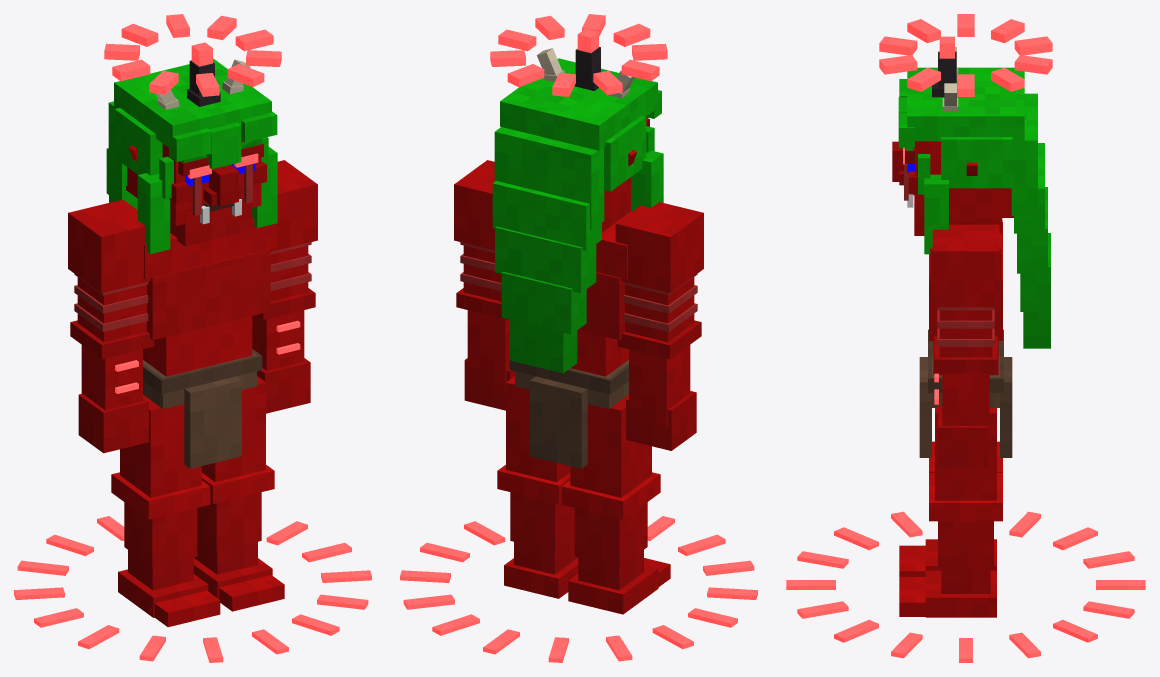
The model's file is kijin_s1_evo3.glb.
3 renders of one model, left to right at view 1: azimuth 30°, elevation 25°; view 2: azimuth 150°, elevation 25°; view 3: azimuth 270°, elevation 25°, orthographic.
Parts seen in each view (by area): view 1: Head, Torso, ArmR, LegR, LegL, ArmL, Root; view 2: Head, ArmR, LegR, Torso, LegL, ArmL, Root; view 3: Head, ArmL, LegL, Root, Torso, LegR.
Boxes of the visible parts, bbox=[...] form: Head: bbox=[104, 14, 281, 254]; Torso: bbox=[143, 218, 276, 468]; ArmR: bbox=[68, 199, 154, 453]; LegR: bbox=[111, 395, 220, 627]; LegL: bbox=[193, 376, 284, 611]; ArmL: bbox=[252, 160, 317, 413]; Root: bbox=[14, 516, 371, 662]; Head: bbox=[490, 14, 667, 373]; ArmR: bbox=[615, 202, 703, 450]; LegR: bbox=[561, 395, 670, 614]; Torso: bbox=[501, 212, 630, 468]; LegL: bbox=[497, 376, 578, 598]; ArmL: bbox=[454, 160, 514, 410]; Root: bbox=[400, 516, 757, 662]; Head: bbox=[879, 14, 1052, 348]; ArmL: bbox=[932, 224, 999, 468]; LegL: bbox=[899, 408, 1002, 617]; Root: bbox=[786, 511, 1145, 662]; Torso: bbox=[919, 221, 1012, 457]; LegR: bbox=[899, 441, 1002, 576].
Bounding box in the file's own units: 1.16 × 1.96 × 1.16.
29 materials, 29 textured.
